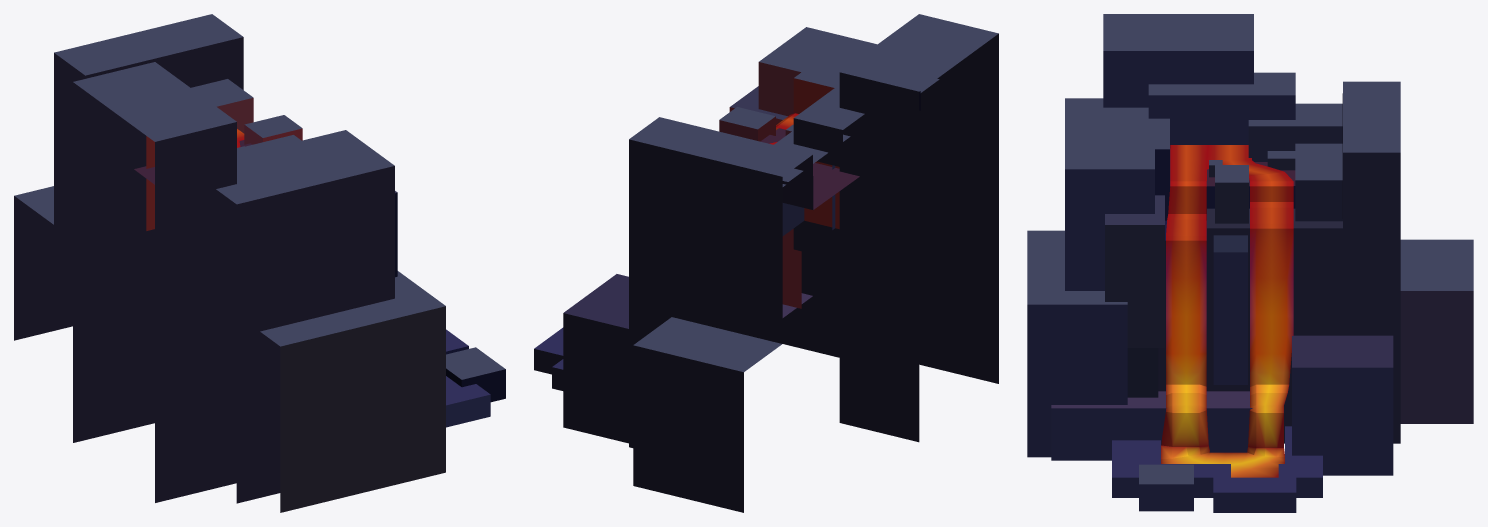
Rendered from Lava_Rocks_01.FBX.
3 views of the same model, side by side, from view 1: azimuth 30°, elevation 25°; view 2: azimuth 150°, elevation 25°; view 3: azimuth 270°, elevation 25° (orthographic). The views are drawn at different scales.
Visible parts, largest first — view 1: RockFormation; view 2: RockFormation; view 3: RockFormation, LavaTest001.
Part boxes in pixels (x1,y1,x2,y2): RockFormation: (14,14,505,512); RockFormation: (534,14,998,512); RockFormation: (1027,14,1473,512); LavaTest001: (1161,145,1293,477).
Bounding box in the file's own units: 472 × 436 × 532.
